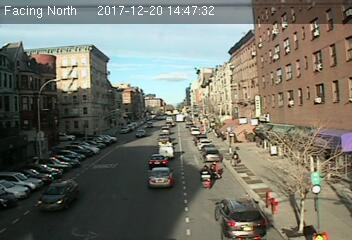car: (212, 197, 266, 240), (37, 180, 80, 208), (147, 167, 173, 186), (158, 141, 175, 159), (147, 154, 168, 167), (204, 147, 222, 162), (158, 133, 170, 143)
